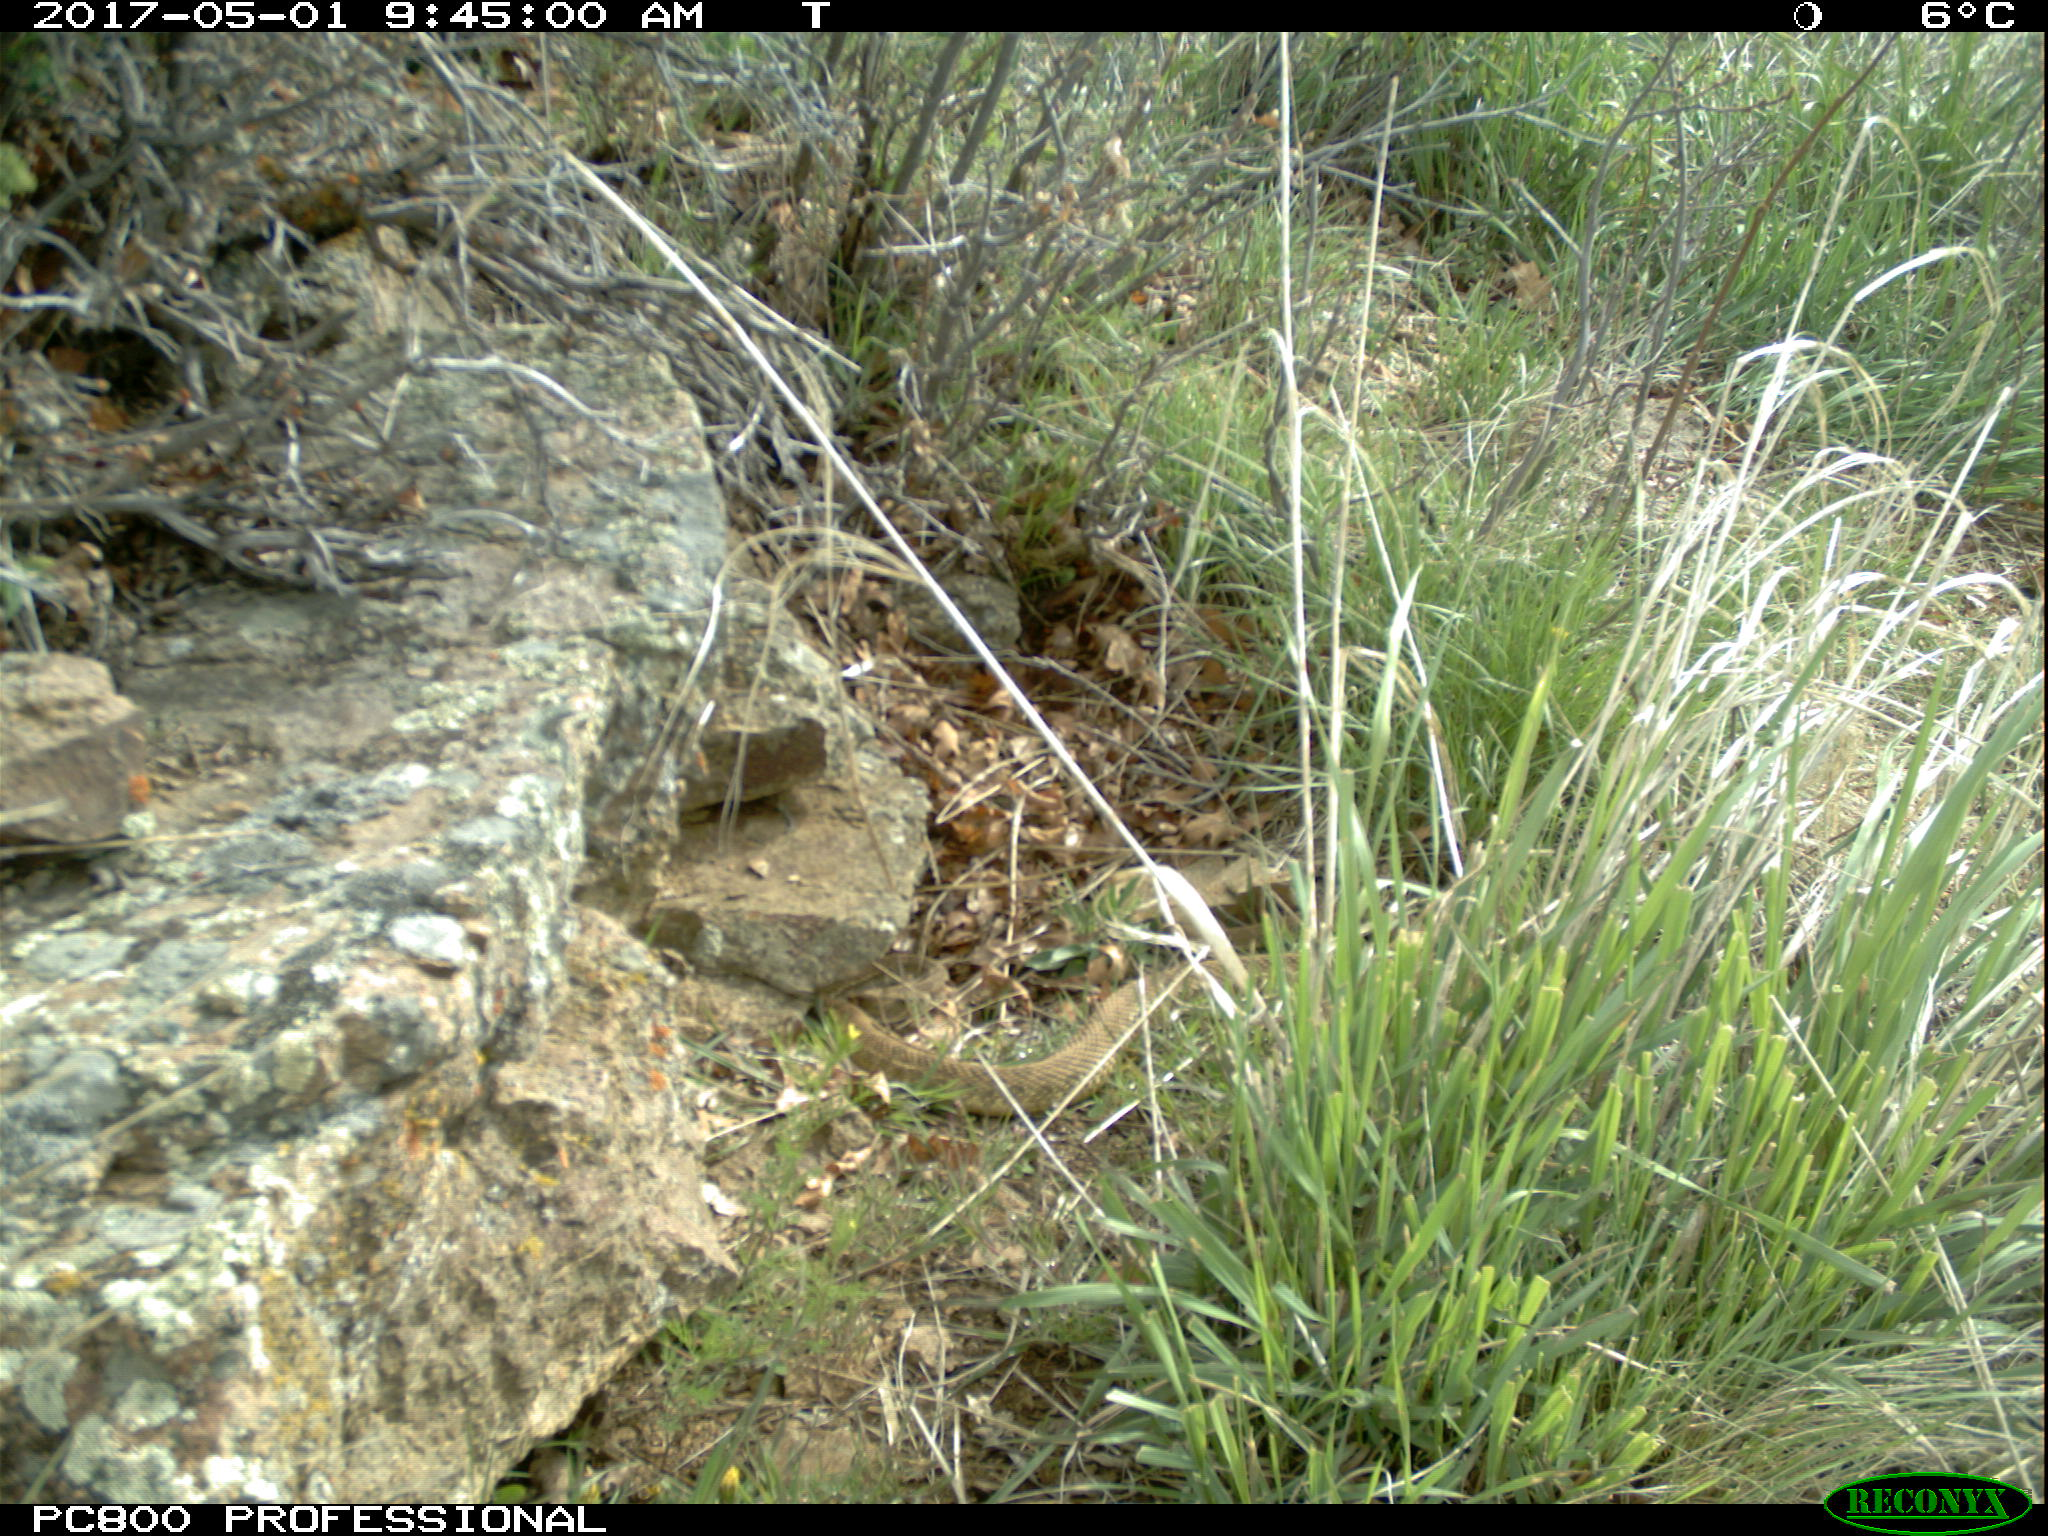snake: (800, 954, 1350, 1112)
